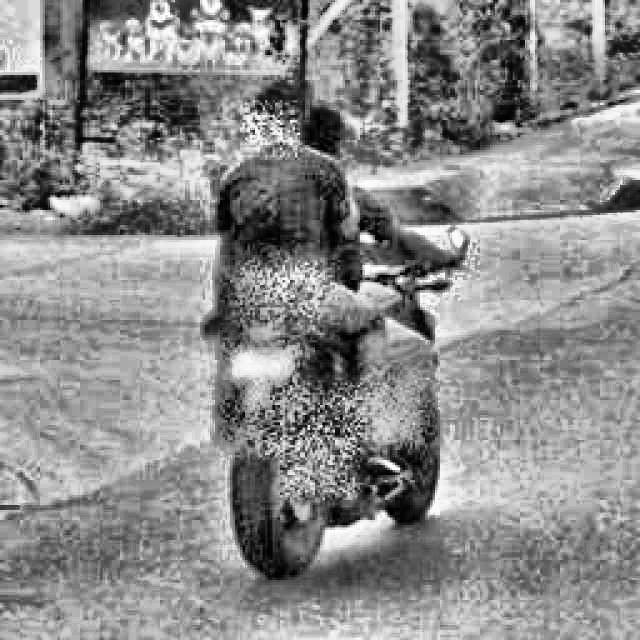motorcycle: (174, 224, 496, 584)
